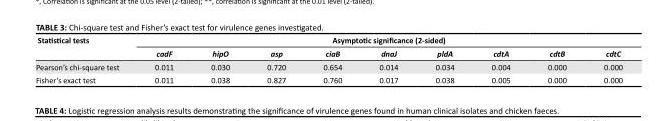table: (34, 34, 622, 84)
table column: (34, 34, 136, 84), (303, 34, 360, 84), (191, 34, 247, 84), (247, 34, 303, 84), (360, 34, 416, 84), (416, 34, 472, 84), (472, 34, 528, 84), (528, 34, 584, 84), (136, 34, 191, 84), (584, 34, 622, 84)
table column header: (34, 34, 622, 59)
table row: (34, 46, 622, 59), (34, 59, 622, 72), (34, 34, 622, 46), (34, 72, 622, 84)
table spanning cell: (136, 34, 622, 46), (34, 34, 136, 59)
